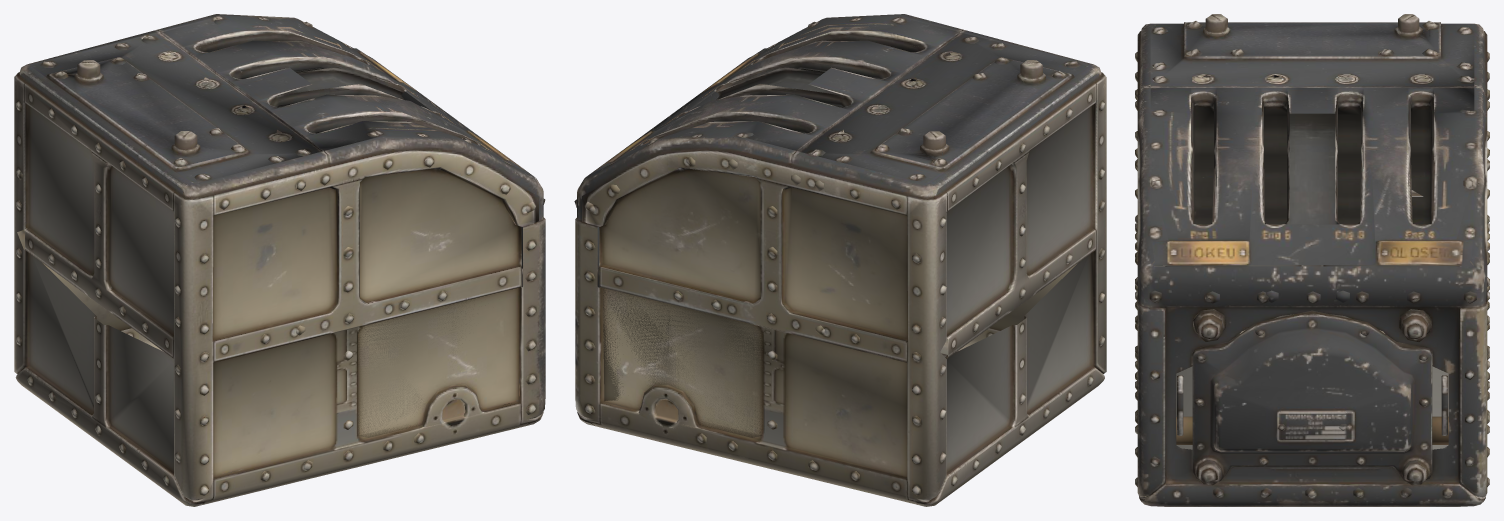
Rendered from ck_quadrant_remesh.glb.
The picture shows the model from 3 angles, left to right: view 1: azimuth 30°, elevation 25°; view 2: azimuth 150°, elevation 25°; view 3: azimuth 270°, elevation 25°; orthographic projection.
Visible parts, largest first — view 1: tripo_node_30754890-c2b1-40c0-9ff5-63349; view 2: tripo_node_30754890-c2b1-40c0-9ff5-63349; view 3: tripo_node_30754890-c2b1-40c0-9ff5-63349.
Part boxes in pixels (x1,y1,x2,y2): tripo_node_30754890-c2b1-40c0-9ff5-63349: (14, 14, 545, 506); tripo_node_30754890-c2b1-40c0-9ff5-63349: (574, 14, 1106, 506); tripo_node_30754890-c2b1-40c0-9ff5-63349: (1135, 14, 1489, 506).
Bounding box in the file's own units: 1 × 0.8513 × 0.8082.
1 material, 1 textured.
